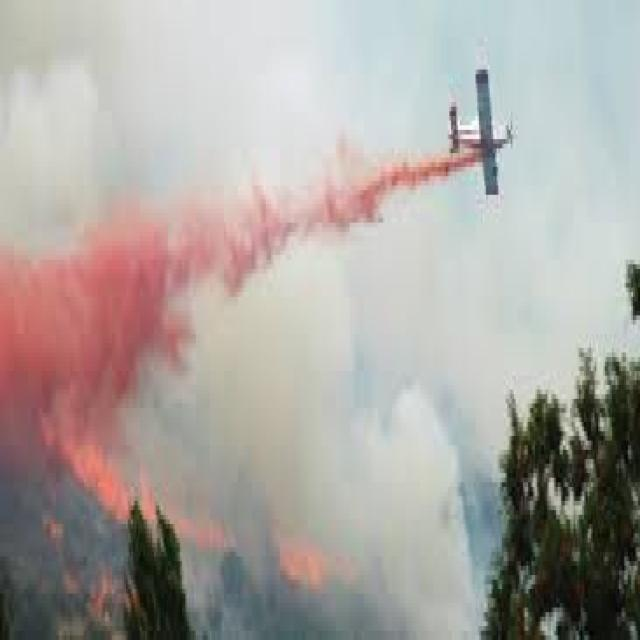Fire: (80, 462, 378, 601)
Smoke: (262, 312, 482, 640)
